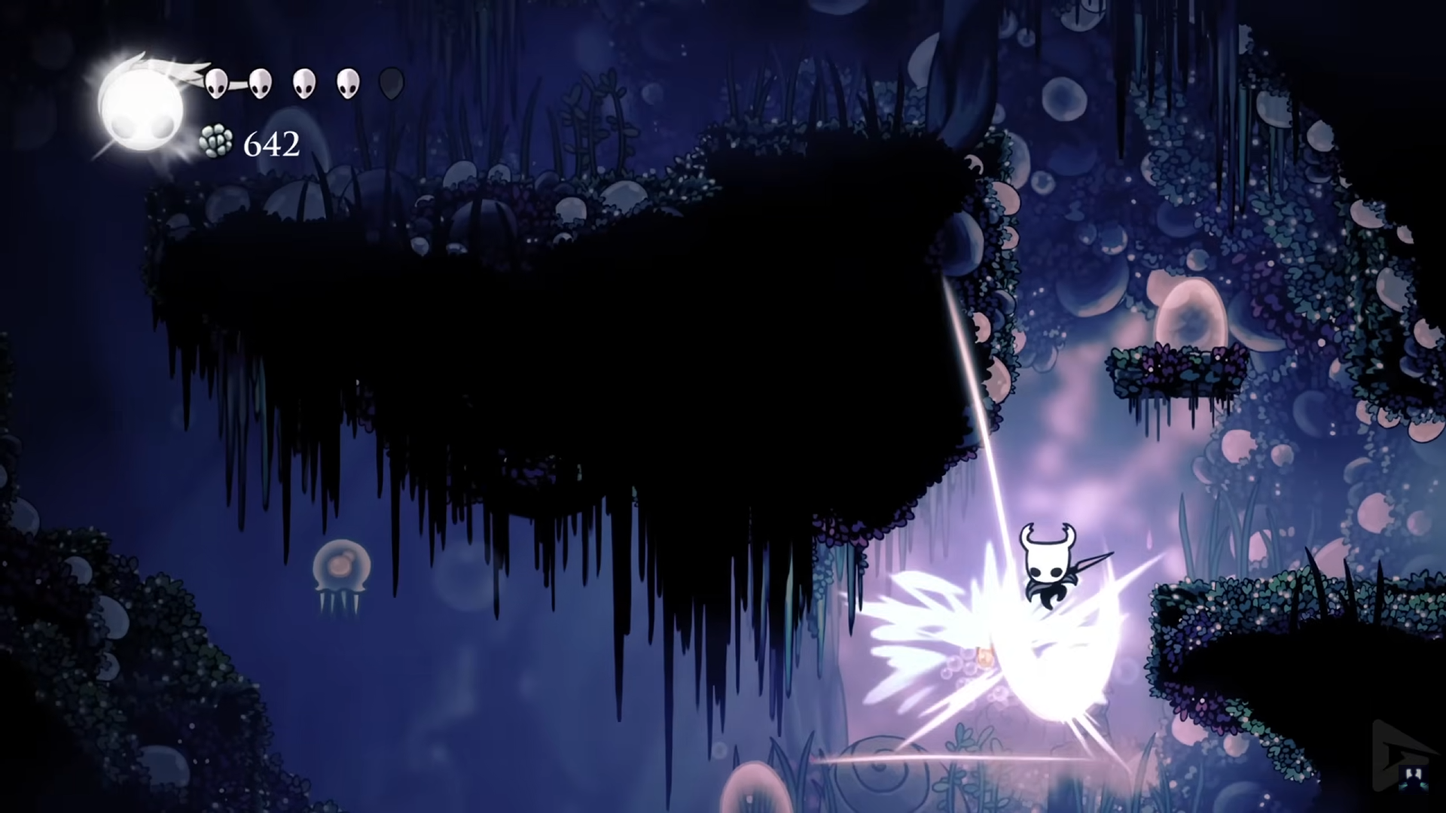HK: (1014, 519, 1096, 620)
